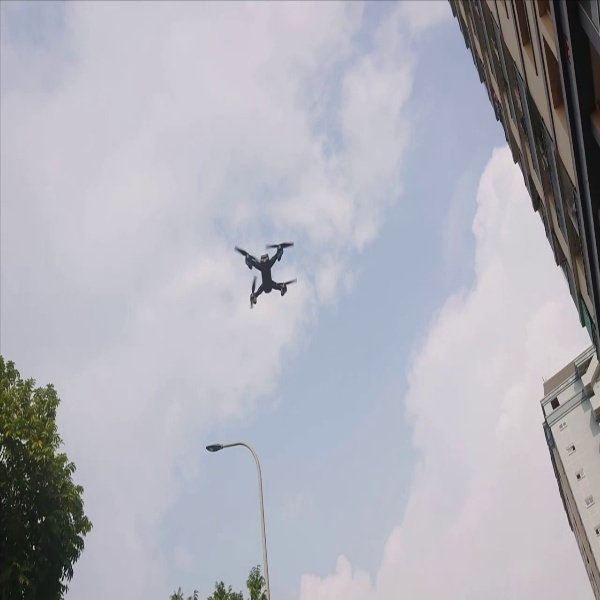drone: (229, 231, 303, 311)
